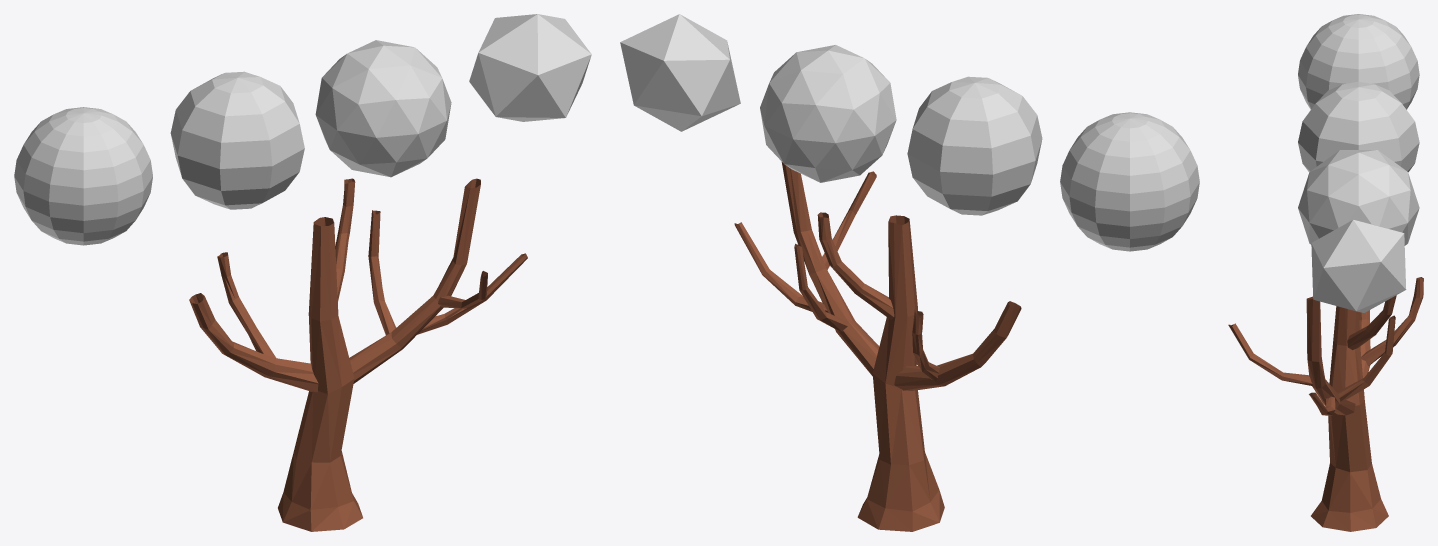
The picture shows the model from 3 angles, left to right: view 1: azimuth 30°, elevation 25°; view 2: azimuth 150°, elevation 25°; view 3: azimuth 270°, elevation 25°; orthographic projection. The views are drawn at different scales.
Visible parts, largest first — view 1: Tree.032, Sphere.001, Sphere, Icosphere, Icosphere.001; view 2: Tree.032, Sphere.001, Sphere, Icosphere, Icosphere.001; view 3: Tree.032, Icosphere, Sphere.001, Sphere, Icosphere.001.
Part boxes in pixels (x1,y1,x2,y2): Tree.032: (189, 178, 527, 531); Sphere.001: (14, 107, 152, 245); Sphere: (170, 71, 304, 209); Icosphere: (315, 40, 451, 177); Icosphere.001: (469, 14, 591, 121); Tree.032: (734, 162, 1021, 531); Sphere.001: (1060, 112, 1199, 251); Sphere: (907, 76, 1042, 215); Icosphere: (760, 45, 896, 182); Icosphere.001: (620, 14, 740, 131); Tree.032: (1228, 277, 1423, 531); Icosphere: (1298, 150, 1419, 245); Sphere.001: (1298, 14, 1419, 109); Sphere: (1298, 81, 1419, 172); Icosphere.001: (1311, 219, 1406, 312).
Size of the model in its own units: 9.27 by 7.19 by 3.21.
